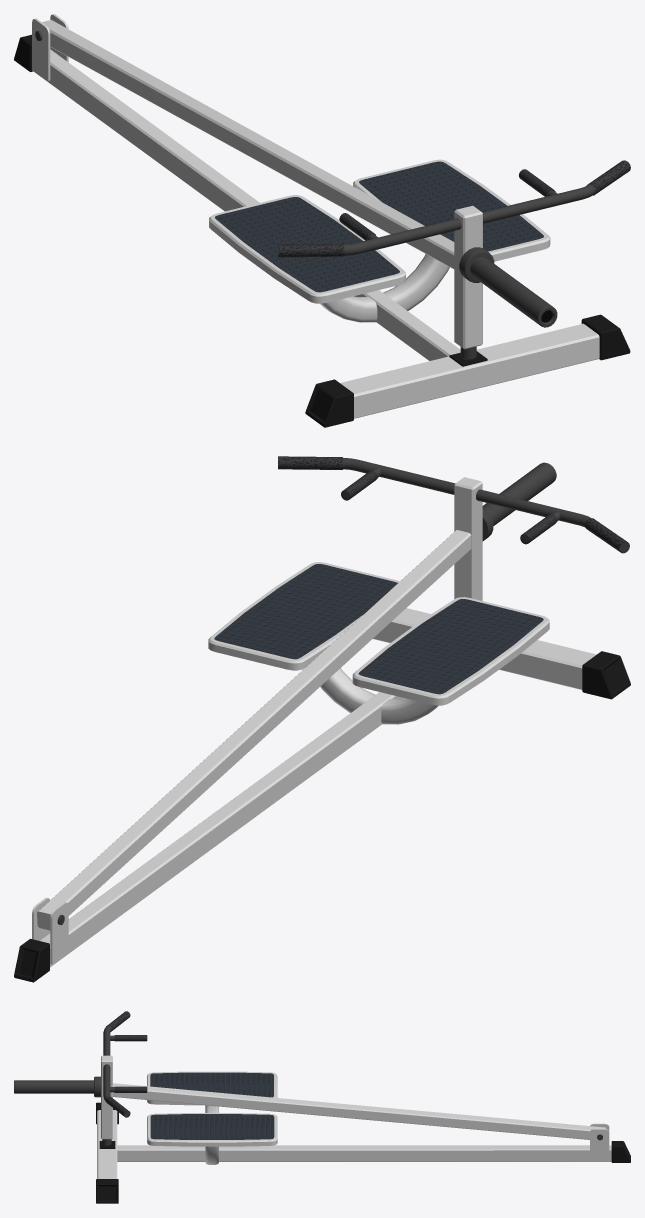
Rendered from Trainer_7.FBX.
3 views of the same model, one above another, from view 1: azimuth 30°, elevation 25°; view 2: azimuth 150°, elevation 25°; view 3: azimuth 270°, elevation 25° (orthographic). The views are drawn at different scales.
Parts seen in each view (by area): view 1: 2, 1, 3; view 2: 2, 1, 3; view 3: 2, 1, 3.
Part boxes in pixels (x1,y1,x2,y2): 2: (14, 14, 630, 427); 1: (42, 20, 630, 359); 3: (459, 247, 557, 327); 2: (14, 562, 630, 982); 1: (37, 456, 629, 930); 3: (482, 462, 556, 541); 2: (96, 1071, 630, 1203); 1: (101, 1011, 605, 1145); 3: (14, 1076, 100, 1097).
Size of the model in its own units: 0.8969 by 2.31 by 0.4212.
